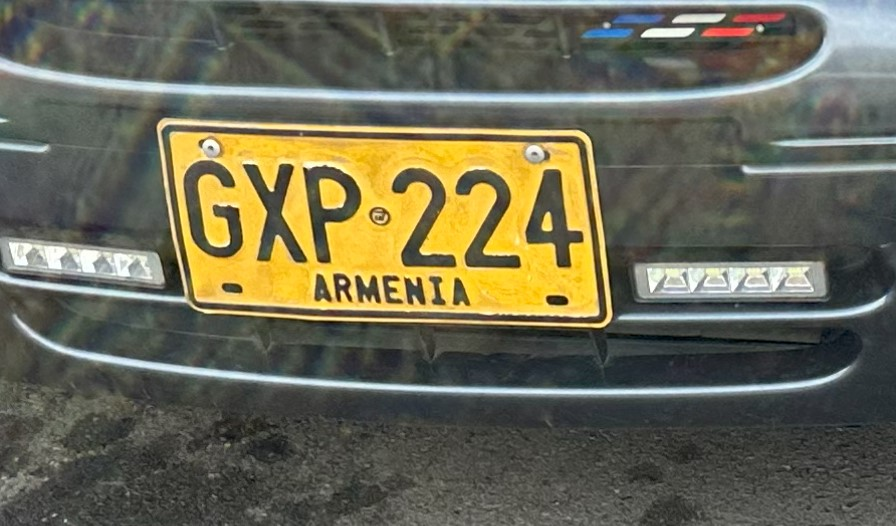number plate: (158, 119, 611, 326)
